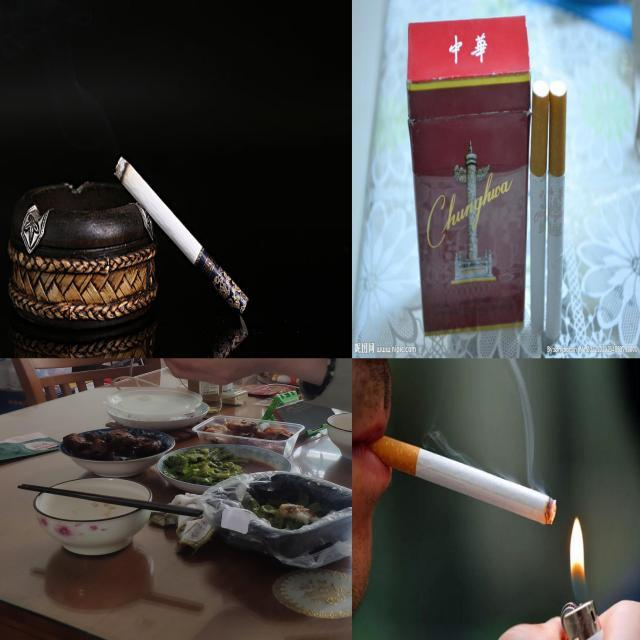smoking: (115, 154, 249, 316), (367, 431, 557, 526), (546, 80, 568, 340), (530, 80, 550, 333)
